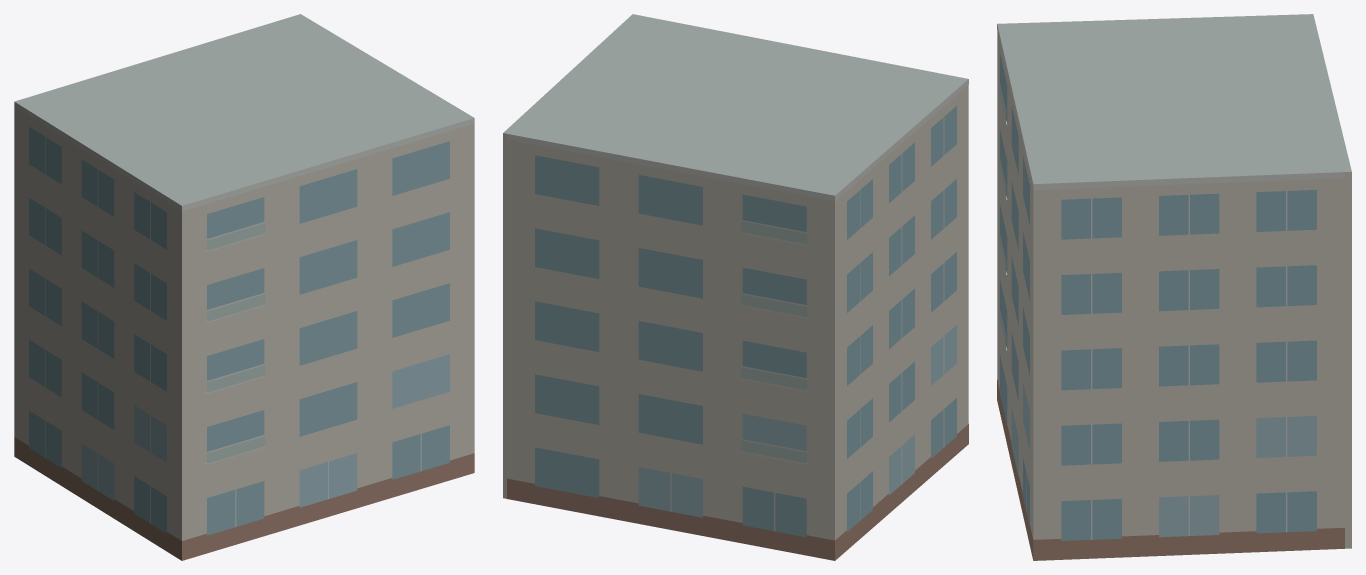
Rendered from survey-upis-32664398.glb.
3 views of the same model, side by side, from view 1: azimuth 30°, elevation 25°; view 2: azimuth 150°, elevation 25°; view 3: azimuth 270°, elevation 25° (orthographic). The views are drawn at different scales.
Parts seen in each view (by area): view 1: survey-upis-32664398.tmp; view 2: survey-upis-32664398.tmp; view 3: survey-upis-32664398.tmp.
Boxes of the visible parts, box(x1,y1,x2,y2) form: survey-upis-32664398.tmp: box(14, 14, 474, 560); survey-upis-32664398.tmp: box(503, 14, 968, 560); survey-upis-32664398.tmp: box(997, 14, 1351, 560).
Size of the model in its own units: 14.93 by 15.4 by 13.14.
